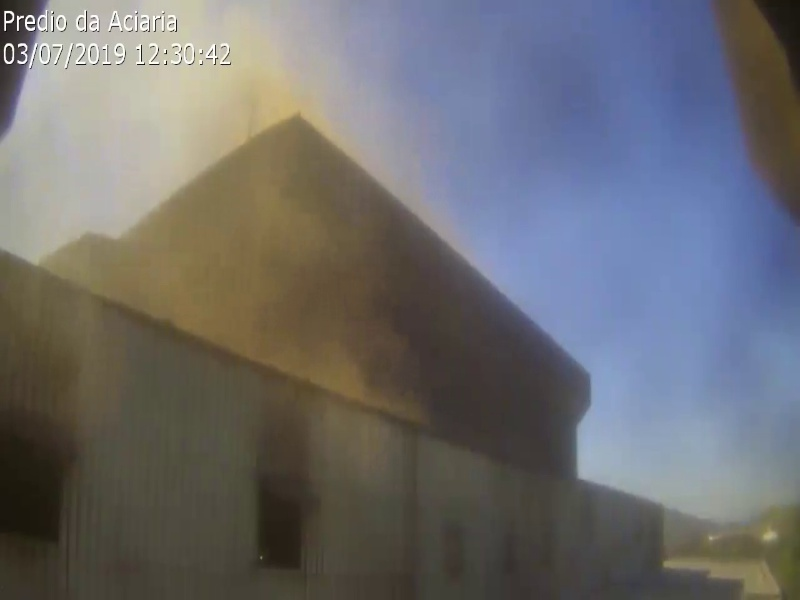Galpao: (1, 248, 594, 600)
Janela: (258, 473, 313, 576)
Pessimo: (1, 1, 405, 261), (147, 282, 194, 309), (112, 267, 159, 294), (82, 256, 129, 283), (194, 303, 241, 330), (222, 316, 269, 343), (262, 330, 309, 357), (296, 344, 343, 371), (151, 257, 198, 284), (205, 271, 252, 298), (203, 238, 250, 265)
